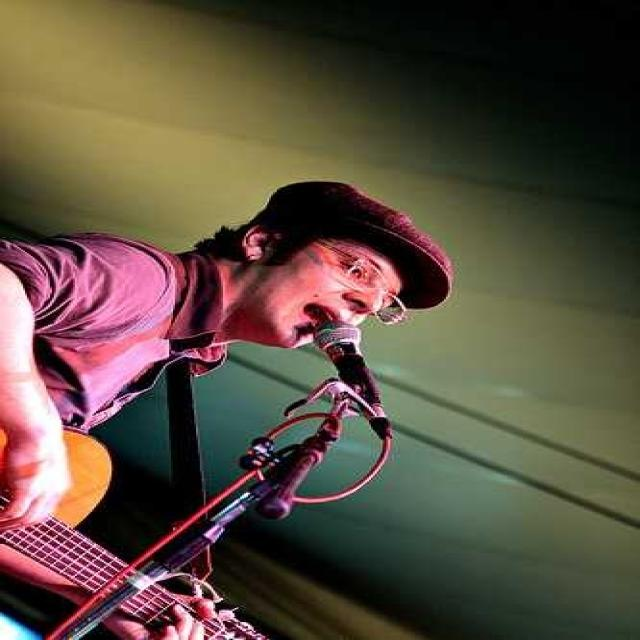microphone: (286, 325, 406, 427)
